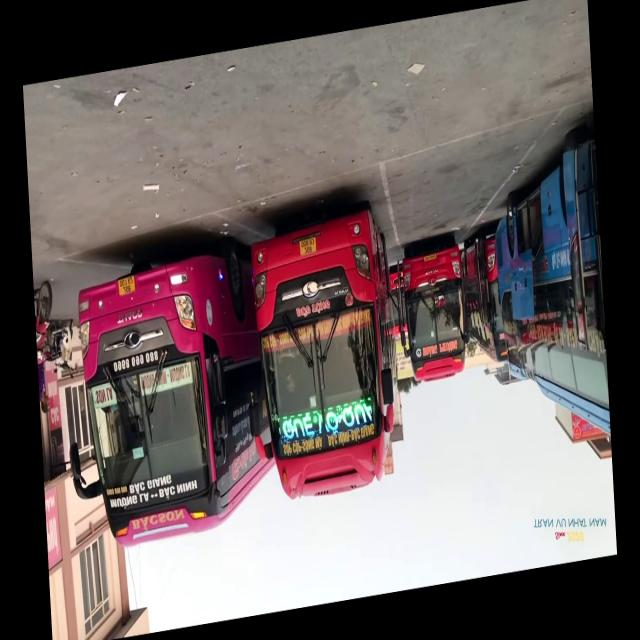bien_vang: (116, 274, 138, 298), (297, 234, 319, 257)
